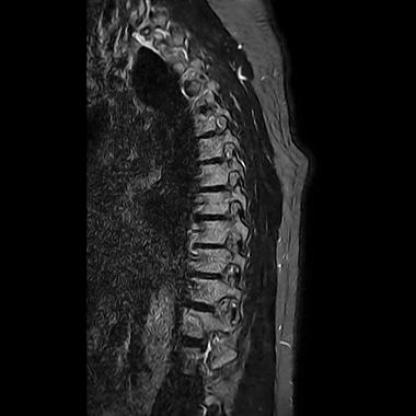Disc Protrusionrotation: (191, 106, 230, 138), (195, 153, 234, 171)
